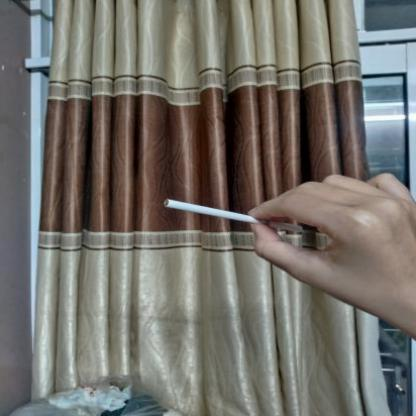cigarette: (160, 196, 304, 234)
